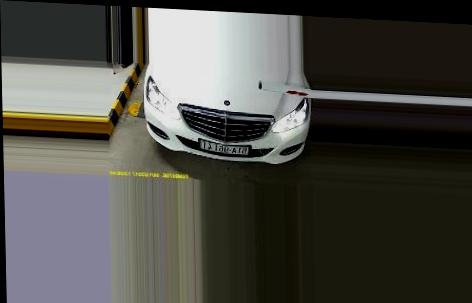License_Plate: (199, 138, 251, 155)
